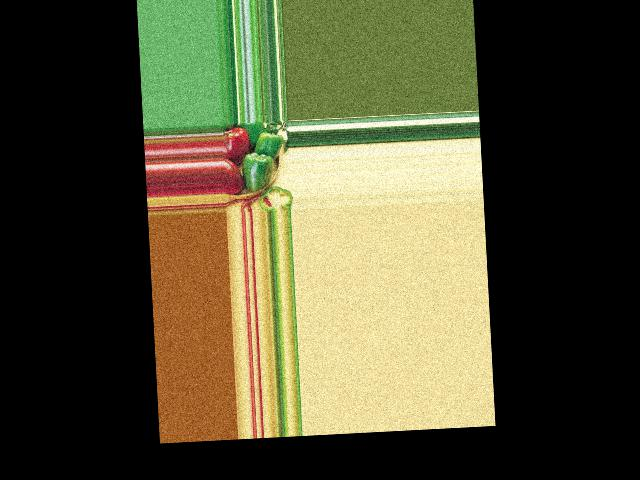bell_pepper: (224, 156, 242, 195)
